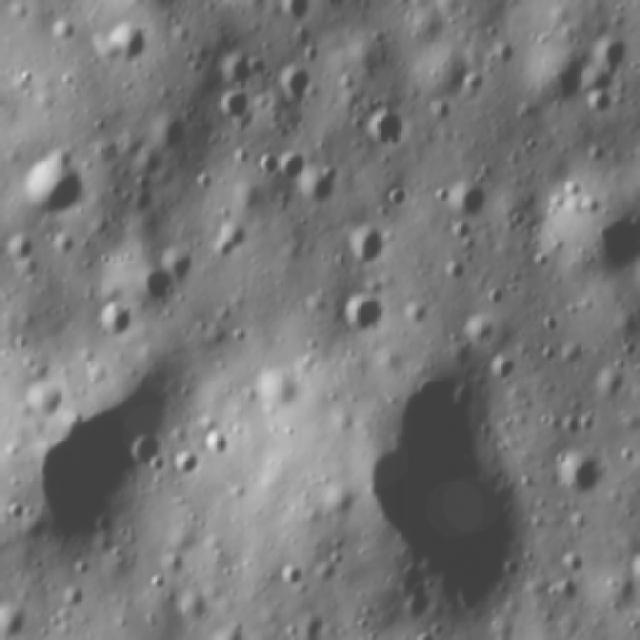crater: (352, 365, 523, 632), (29, 377, 180, 561), (546, 188, 640, 295), (12, 143, 92, 219), (547, 442, 605, 507), (96, 14, 156, 74), (336, 288, 390, 341), (332, 223, 388, 274), (203, 214, 254, 266), (288, 160, 338, 212), (363, 99, 411, 152), (442, 177, 493, 226), (115, 427, 171, 470), (214, 40, 261, 91), (136, 259, 181, 312), (25, 371, 67, 422), (277, 58, 317, 110), (213, 86, 258, 132), (149, 109, 188, 156), (267, 145, 308, 189), (593, 29, 632, 74), (95, 296, 131, 344), (460, 308, 502, 349), (552, 410, 598, 444), (167, 446, 204, 488), (580, 61, 618, 98), (487, 351, 524, 387), (61, 575, 98, 611), (42, 8, 80, 43), (315, 484, 353, 518), (128, 146, 166, 180), (595, 366, 628, 403), (582, 88, 616, 123), (198, 427, 232, 461), (550, 570, 582, 604), (286, 25, 317, 60), (560, 544, 592, 576), (377, 184, 412, 213), (275, 559, 303, 595), (492, 36, 519, 73), (556, 338, 586, 368), (189, 164, 220, 193), (131, 188, 163, 215), (310, 558, 338, 588), (402, 296, 430, 326), (442, 256, 468, 286), (424, 99, 450, 128), (3, 608, 29, 637), (294, 44, 324, 68), (538, 312, 570, 334), (480, 287, 509, 311), (464, 70, 488, 96), (226, 320, 248, 346), (505, 209, 527, 234), (147, 570, 167, 590)
